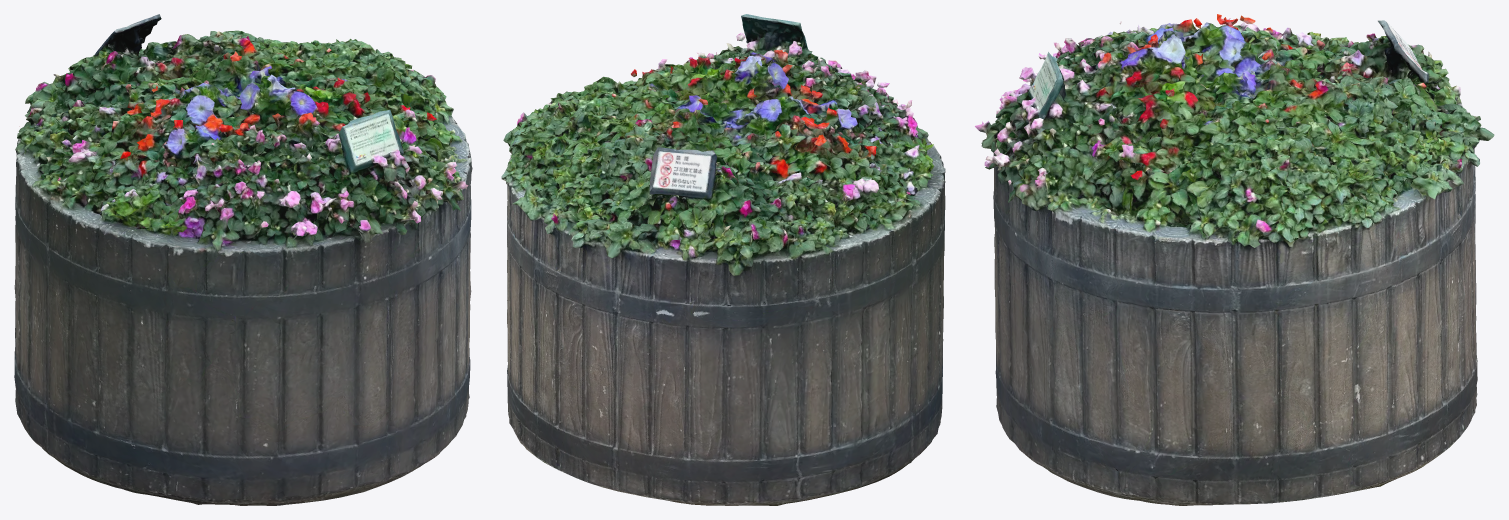
File: flower_bed.glb
The picture shows the model from 3 angles, left to right: view 1: azimuth 30°, elevation 25°; view 2: azimuth 150°, elevation 25°; view 3: azimuth 270°, elevation 25°; orthographic projection. The views are drawn at different scales.
Parts seen in each view (by area): view 1: g0; view 2: g0; view 3: g0.
Boxes of the visible parts, box(x1,y1,x2,y2) form: g0: box(14, 14, 472, 505); g0: box(501, 14, 945, 505); g0: box(975, 14, 1494, 505).
Bounding box in the file's own units: 0.9503 × 0.8173 × 1.
Materials: 1 (1 with a texture image).
